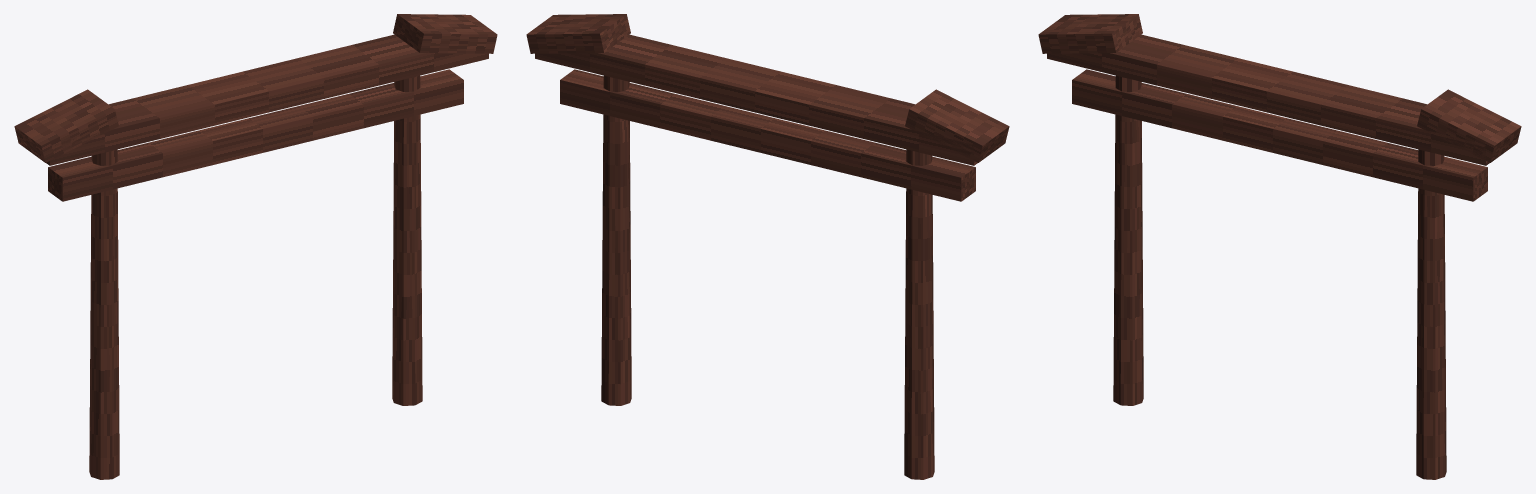
Rendered from gate_37.glb.
The picture shows the model from 3 angles, left to right: view 1: azimuth 30°, elevation 25°; view 2: azimuth 150°, elevation 25°; view 3: azimuth 330°, elevation 25°; orthographic projection.
Visible parts, largest first — view 1: Roof, Lintel, Pillar.001, Pillar, RaisedEave, RaisedEave.001; view 2: Roof, Lintel, Pillar.001, Pillar, RaisedEave, RaisedEave.001; view 3: Roof, Lintel, Pillar, Pillar.001, RaisedEave.001, RaisedEave.
Part boxes in pixels (x1,y1,x2,y2): Roof: [46, 34, 488, 165]; Lintel: [48, 69, 463, 201]; Pillar.001: [392, 75, 422, 405]; Pillar: [89, 149, 119, 479]; RaisedEave: [14, 89, 118, 162]; RaisedEave.001: [393, 14, 497, 53]; Roof: [535, 34, 977, 165]; Lintel: [560, 69, 975, 201]; Pillar.001: [601, 75, 631, 405]; Pillar: [904, 149, 934, 479]; RaisedEave: [905, 89, 1009, 162]; RaisedEave.001: [526, 14, 630, 53]; Roof: [1047, 34, 1489, 165]; Lintel: [1072, 69, 1487, 201]; Pillar: [1113, 75, 1143, 405]; Pillar.001: [1416, 149, 1446, 479]; RaisedEave.001: [1417, 89, 1521, 162]; RaisedEave: [1038, 14, 1142, 53].
Bounding box in the file's own units: 6.36 × 5 × 0.65.
1 material, 1 textured.
